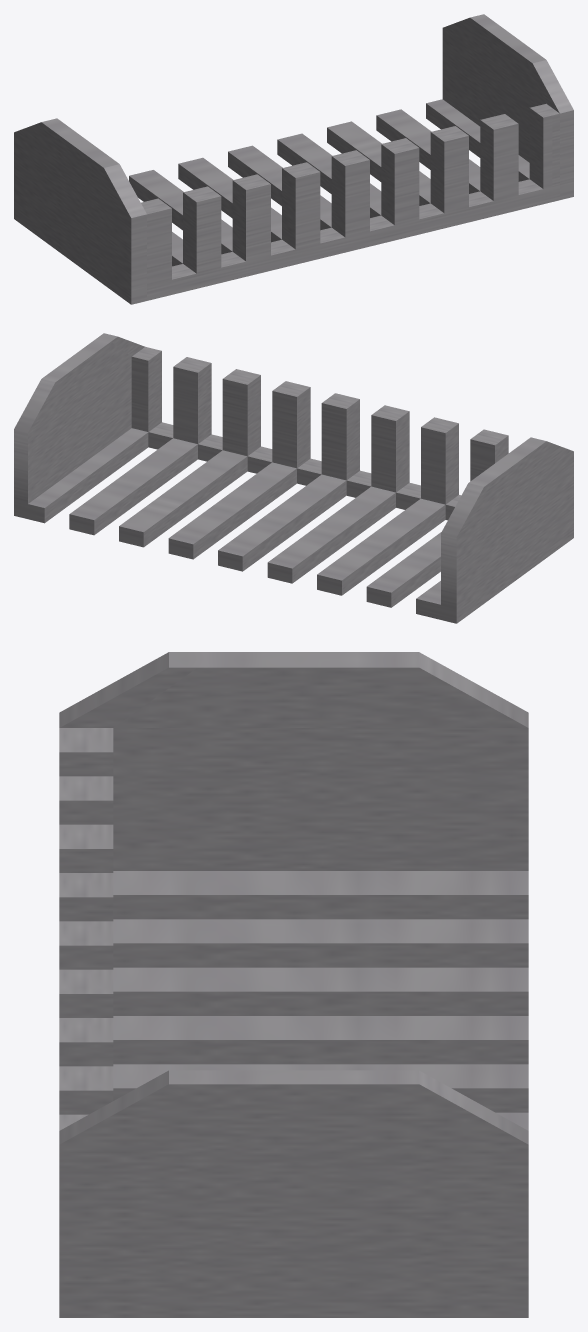
File: Dish_Rack.fbx
The picture shows the model from 3 angles, top to bottom: view 1: azimuth 30°, elevation 25°; view 2: azimuth 150°, elevation 25°; view 3: azimuth 270°, elevation 25°; orthographic projection. The views are drawn at different scales.
Visible parts, largest first — view 1: pCube168; view 2: pCube168; view 3: pCube168.
Boxes of the visible parts, x1,y1,x2,y2 form: pCube168: (14, 14, 573, 304); pCube168: (14, 333, 573, 623); pCube168: (59, 652, 528, 1317).
Size of the model in its own units: 0.8313 by 0.2097 by 0.3814.
